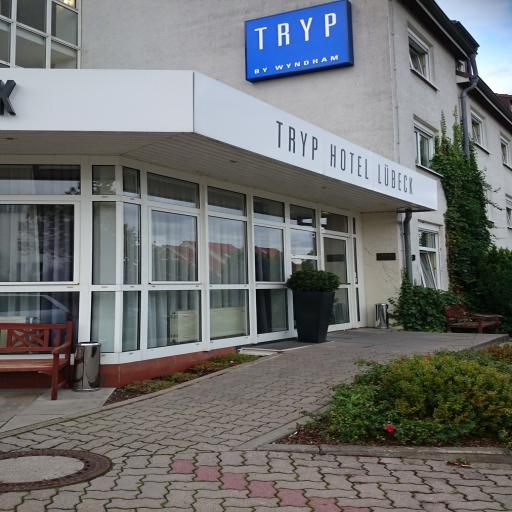ramp: (50, 352, 412, 446)
